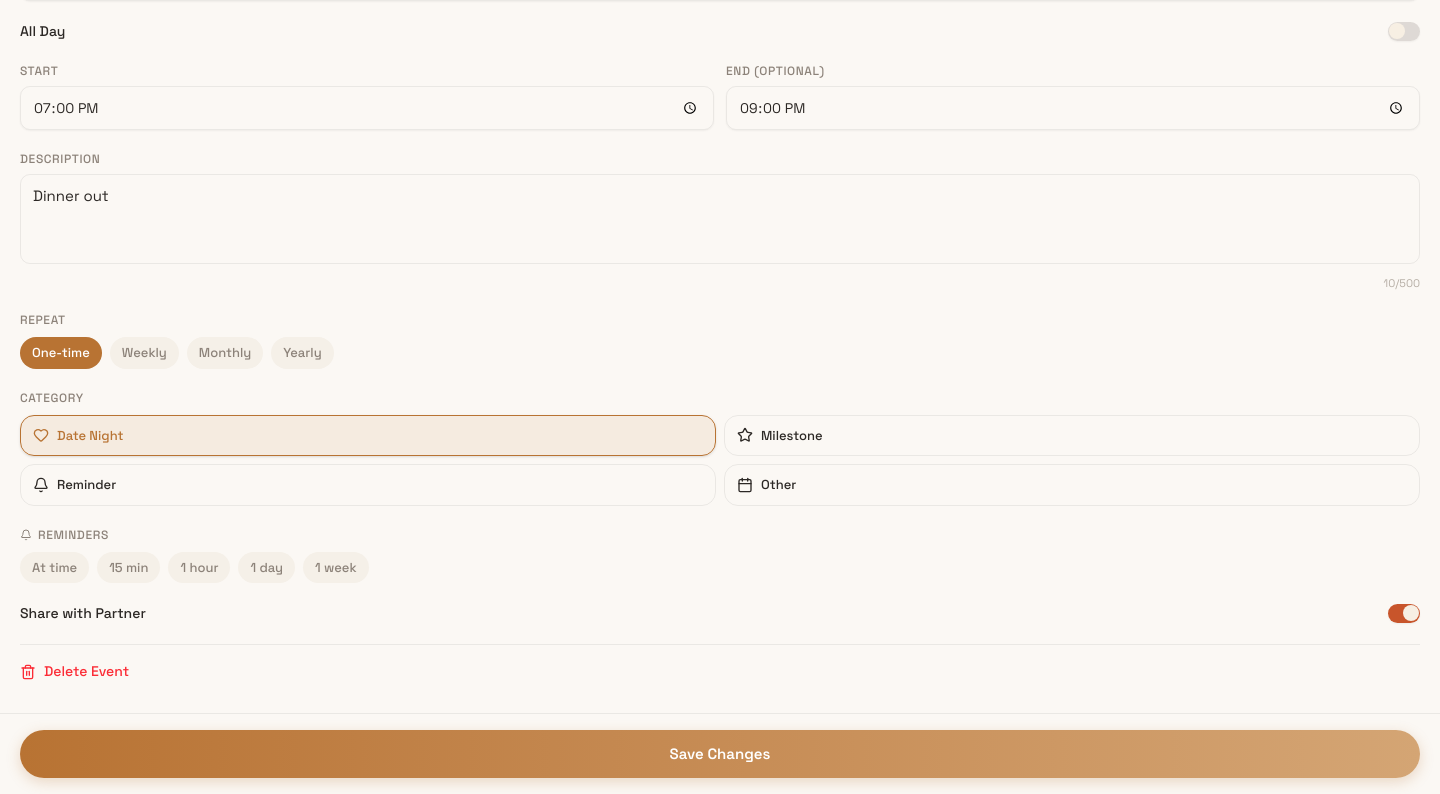
Test: EditEventPage › interaction › shows delete confirmation on delete click
(page scrolled)
Click the button with test id "delete-button" at (75, 672), box x1=20 y1=661 x2=129 y2=682
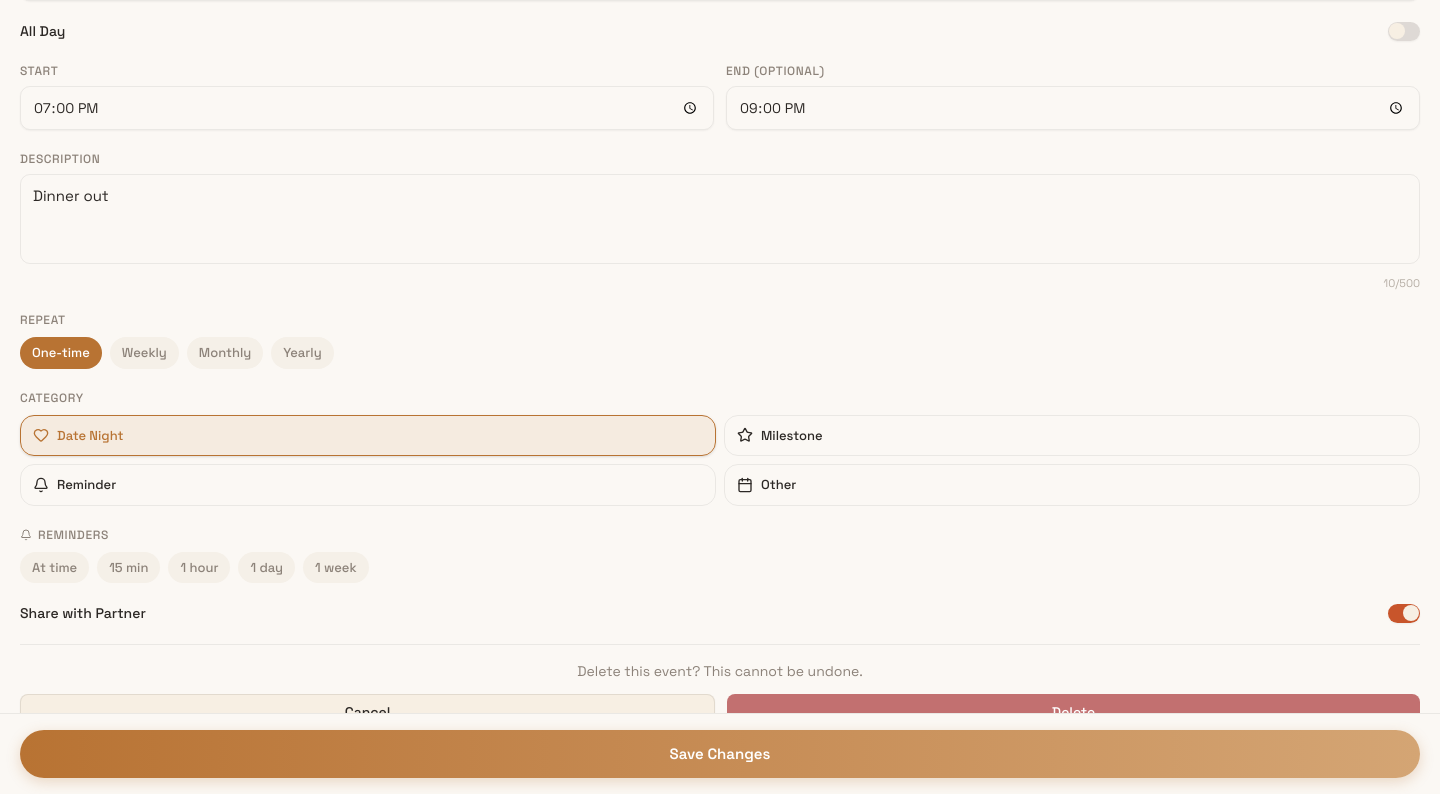
expect the element with test id "delete-confirm" is shown: met, box x1=20 y1=661 x2=1420 y2=730
